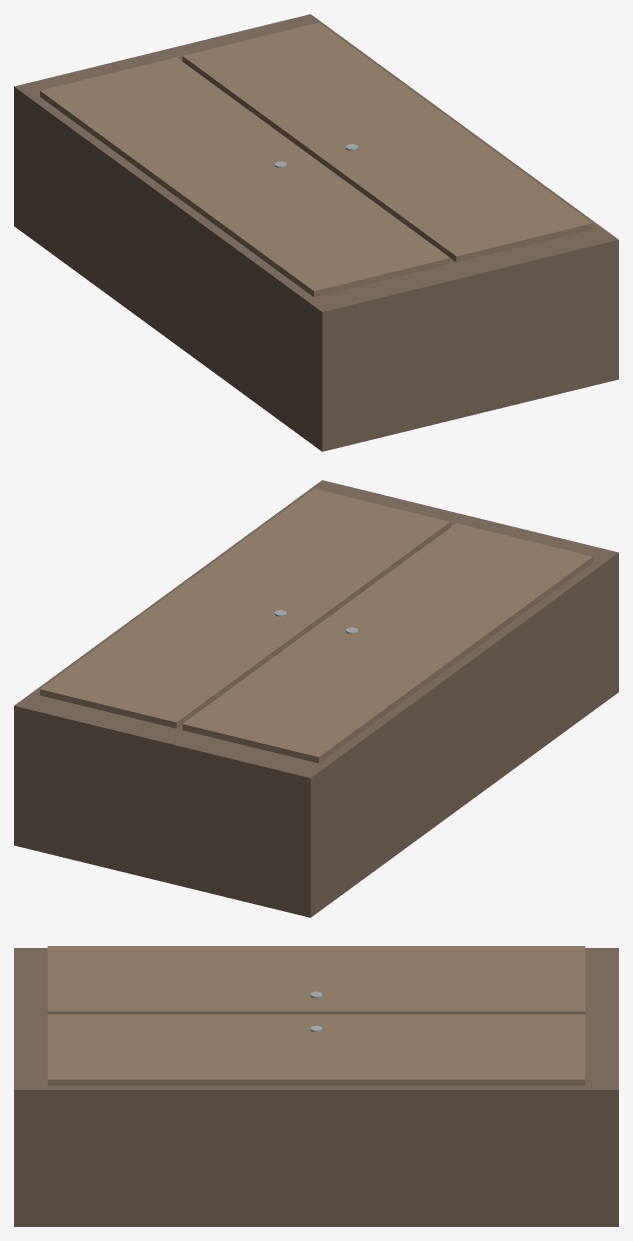
File: storage_cabinet.glb
3 views of the same model, one above another, from view 1: azimuth 30°, elevation 25°; view 2: azimuth 150°, elevation 25°; view 3: azimuth 270°, elevation 25° (orthographic).
Parts seen in each view (by area): view 1: world; view 2: world; view 3: world.
Part boxes in pixels (x1,y1,x2,y2): world: [14, 14, 618, 451]; world: [14, 480, 618, 917]; world: [14, 946, 618, 1226].
Bounding box in the file's own units: 1 × 0.475 × 1.8.
